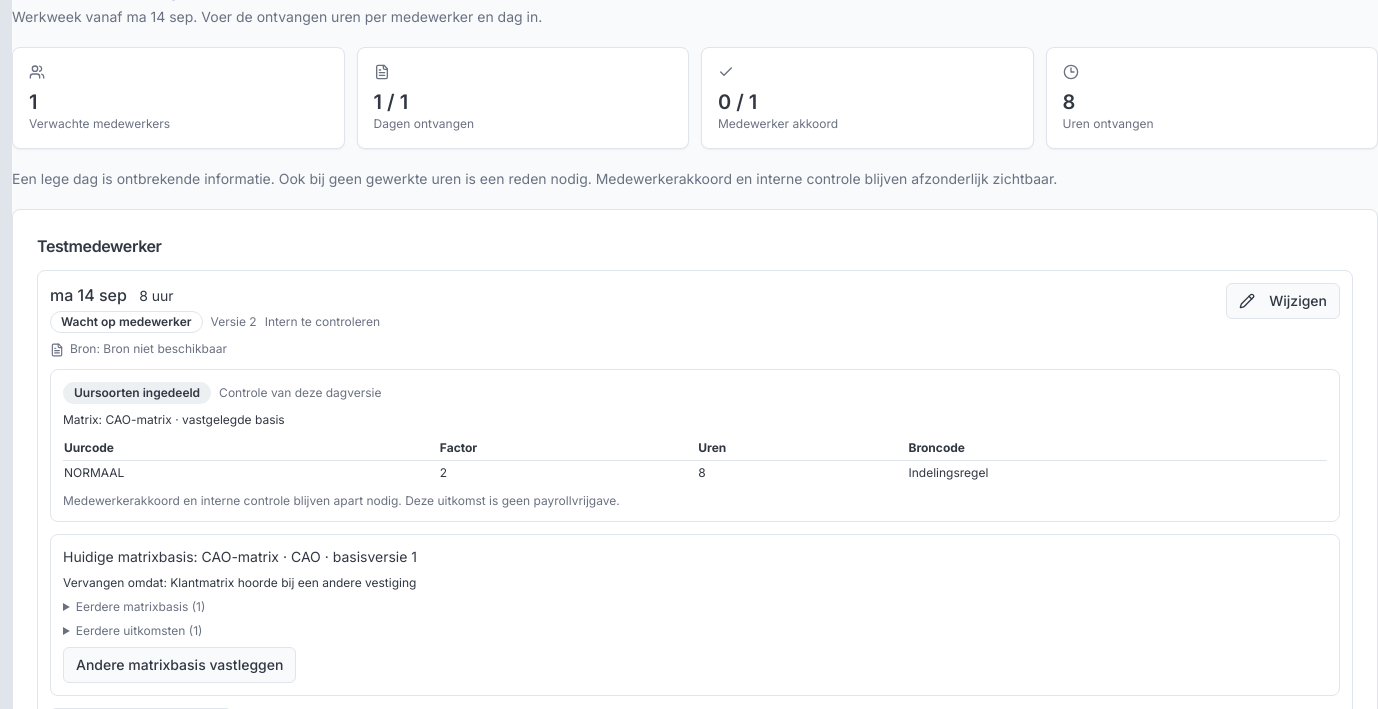
Test case: replacing the basis › says the recalculation still has to happen and does not claim a new outcome
Click the button "Andere matrixbasis vastleggen" at (180, 665), box left=63, top=647, right=296, bottom=683
(page scrolled)
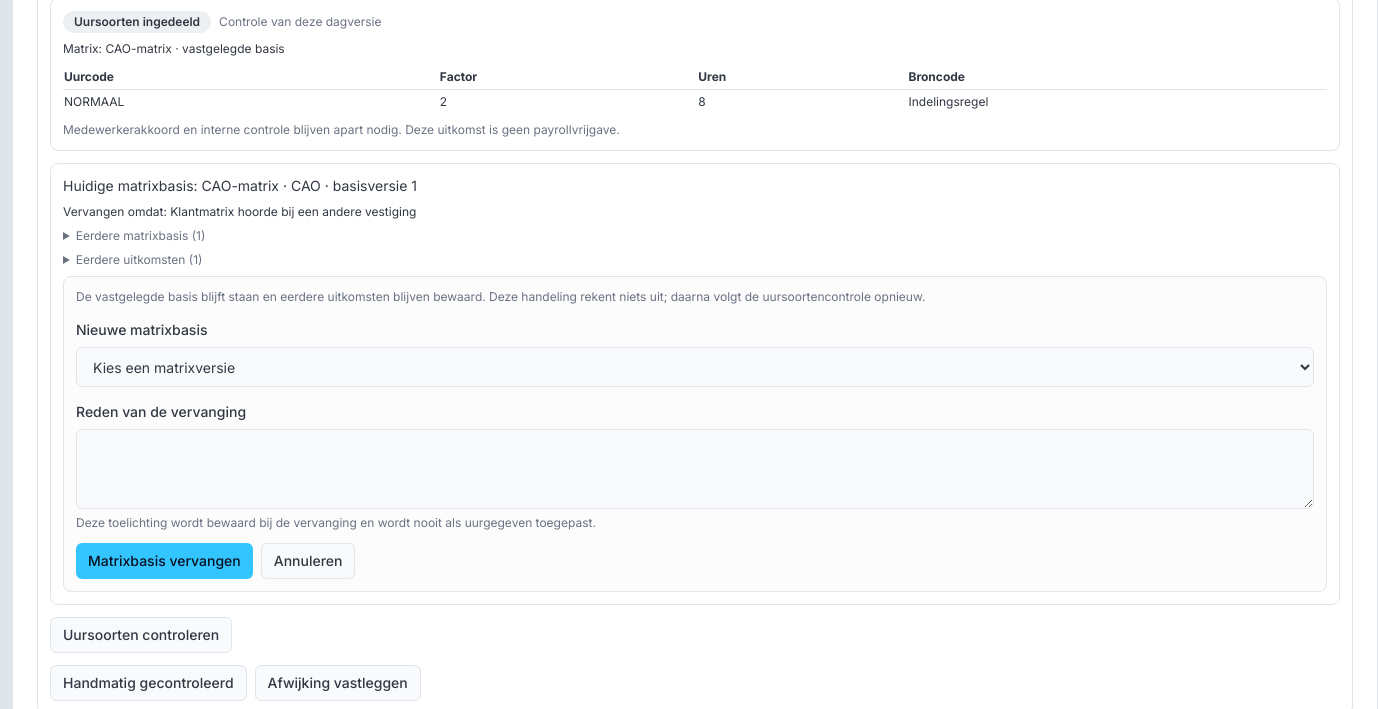
Check: the dropdown labelled "Nieuwe matrixbasis" is shown
Select "Klantmatrix · klantmatrix · vanaf 2026-01-01" in the dropdown labelled "Nieuwe matrixbasis" at (695, 367), box left=76, top=347, right=1314, bottom=387
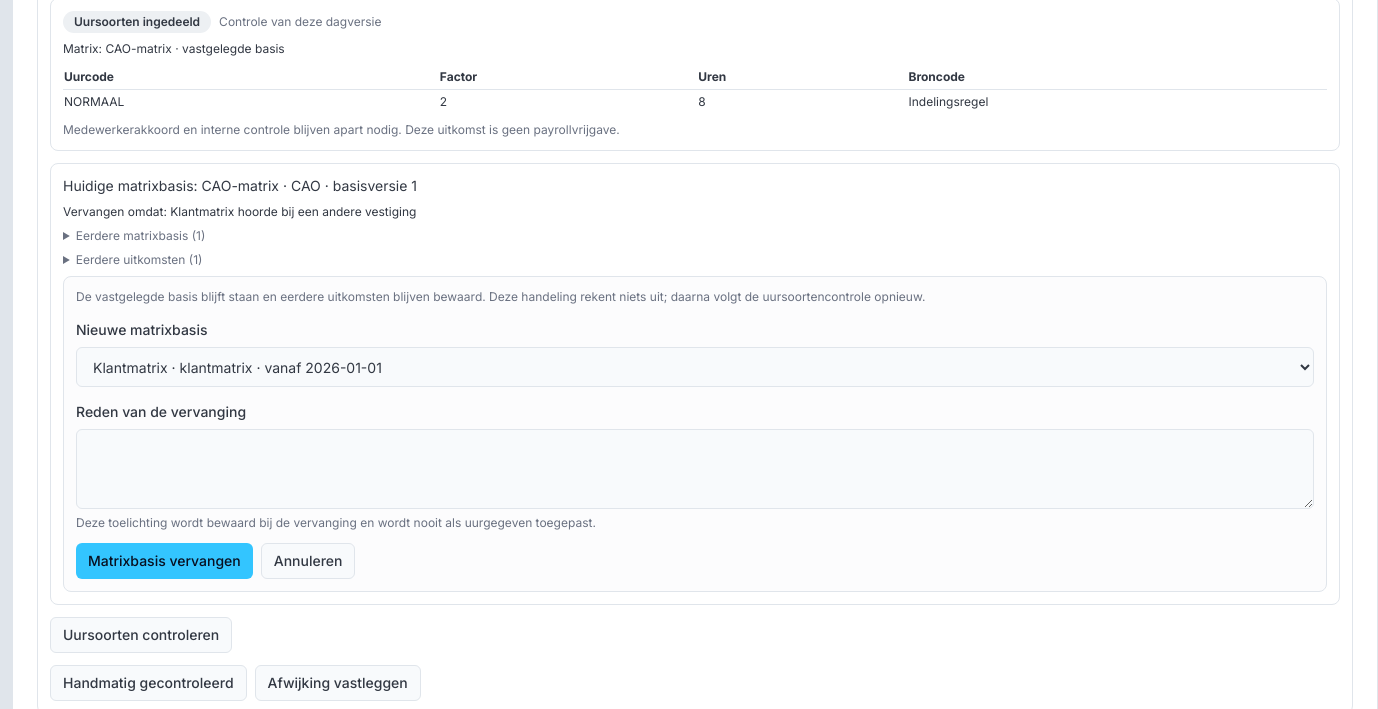
Type "Verkeerde matrix" into the text box labelled "Reden van de vervanging" at (695, 469), box left=76, top=429, right=1314, bottom=509
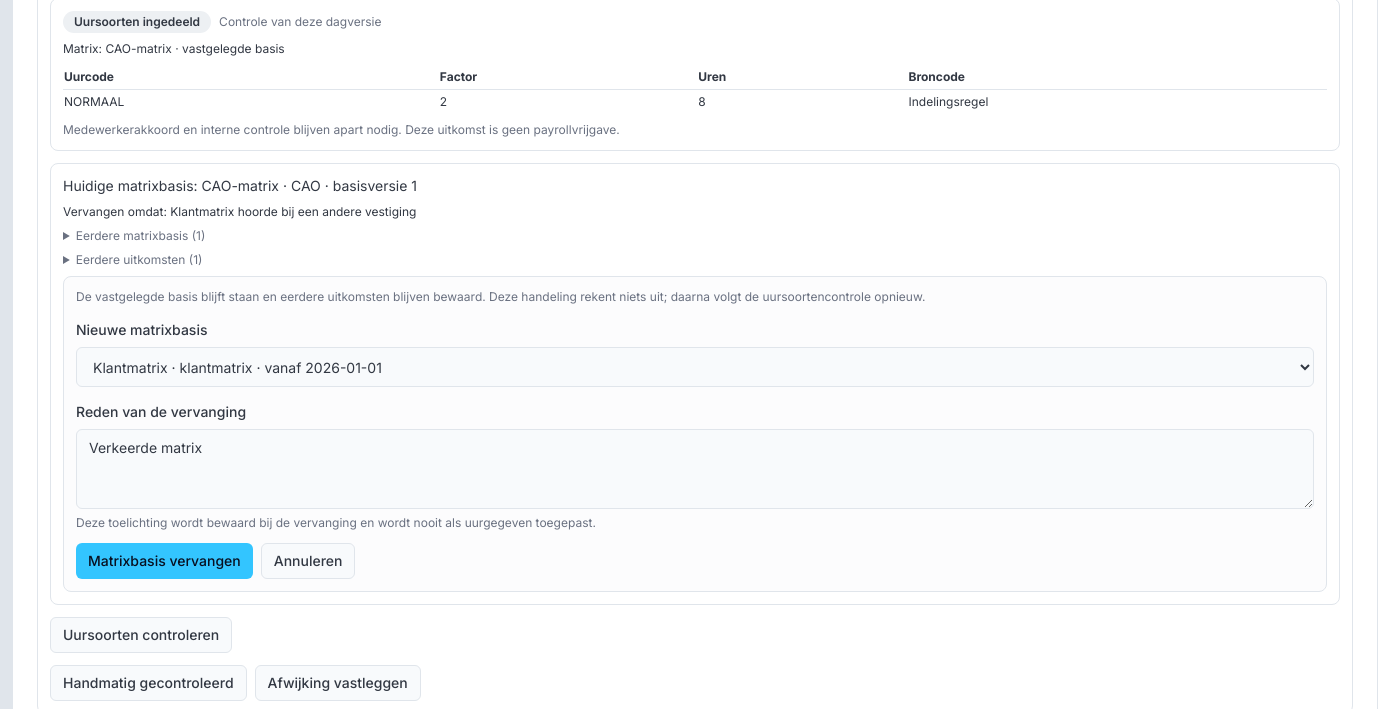
Click the button "Matrixbasis vervangen" at (164, 561), box left=76, top=543, right=253, bottom=579
(page scrolled)
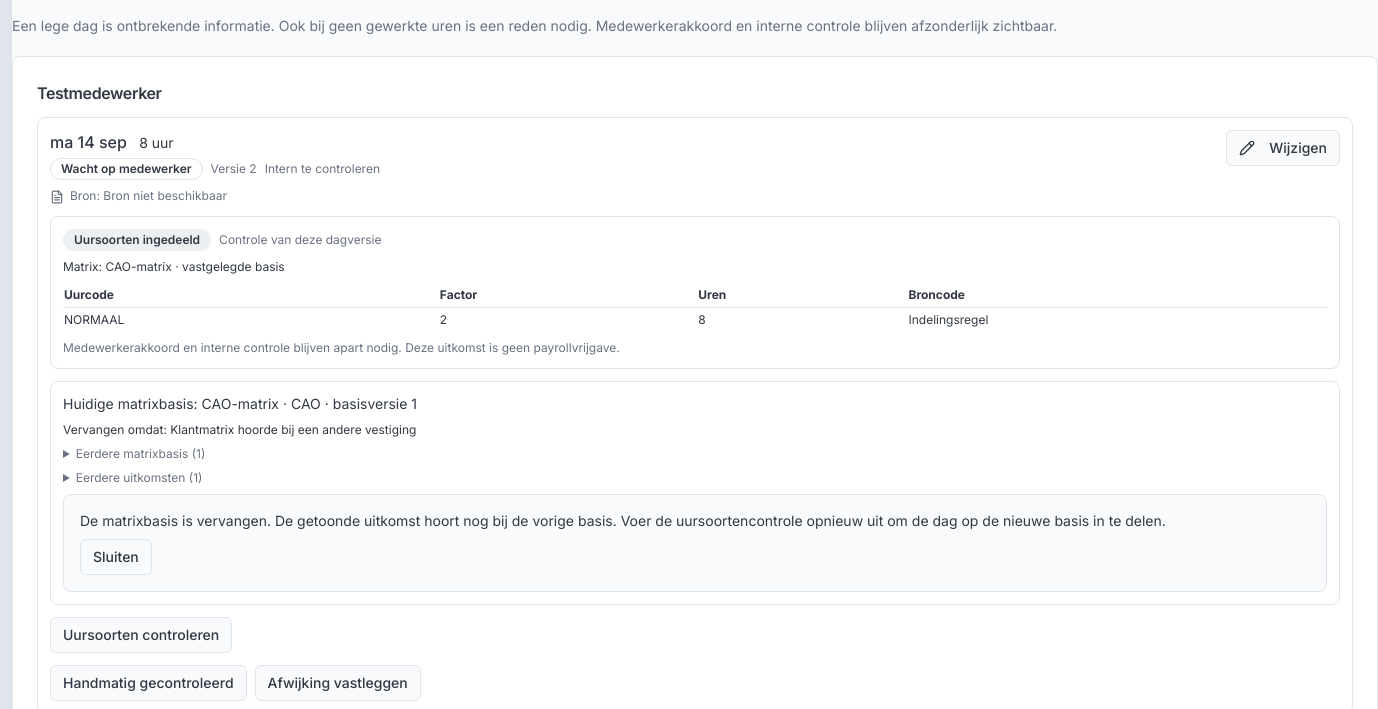
Check: the text "Voer de uursoortencontrole opnieuw uit" is shown, box left=80, top=512, right=1166, bottom=529
